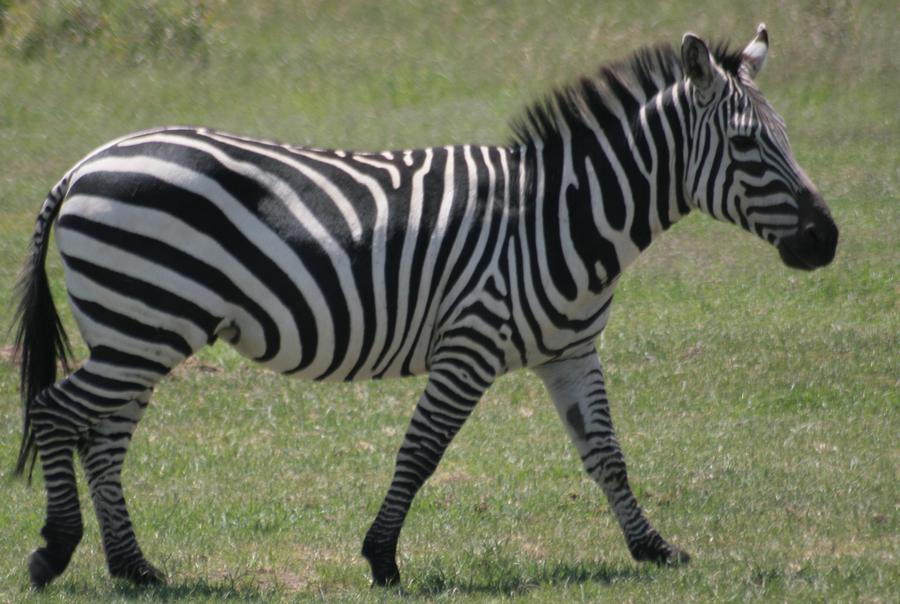zebra_plains: (66, 126, 591, 378)
